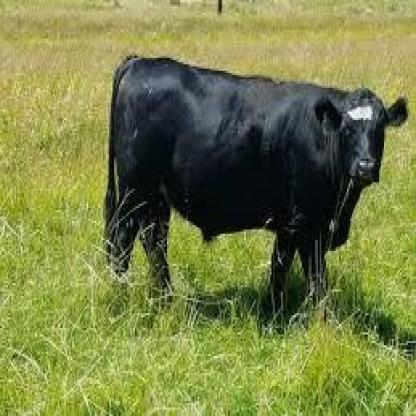cow: (105, 52, 410, 340)
